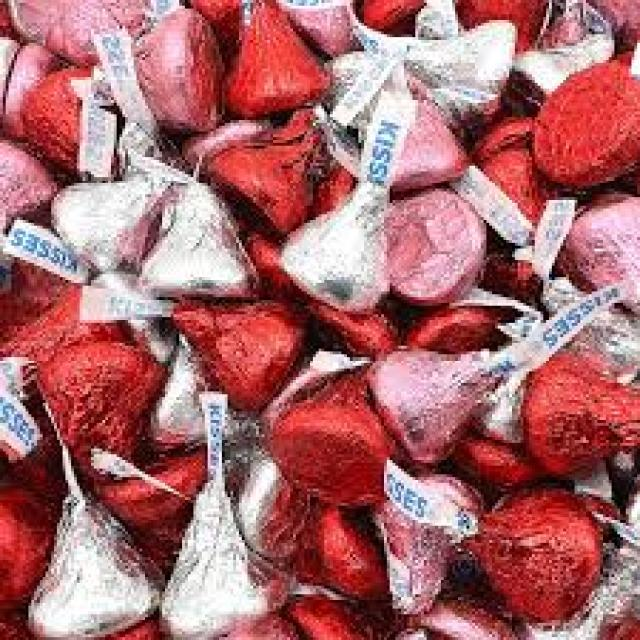kisses: (374, 282, 635, 466), (280, 100, 433, 310), (59, 12, 225, 133), (164, 482, 301, 624), (30, 495, 168, 633), (372, 13, 524, 130), (376, 481, 487, 626), (58, 150, 178, 272), (143, 174, 260, 298), (532, 251, 640, 383), (160, 344, 284, 452), (516, 20, 626, 111)
